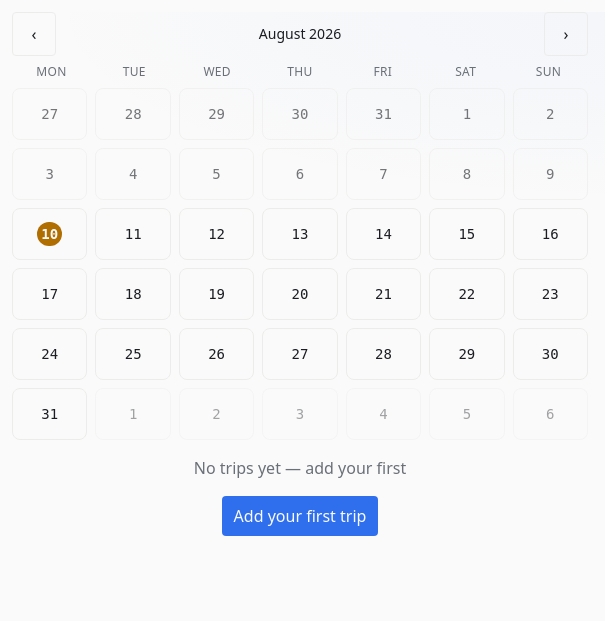
Test case: CalendarHome › shows an empty state with an add-trip action that selects today and shows the inline add form
This screenshot has width=605, height=621.
Check: the text "No trips yet — add your first" is shown, box [194,456,406,480]
Click the button "Add your first trip". click: (300, 516)
box: [222,496,378,536]
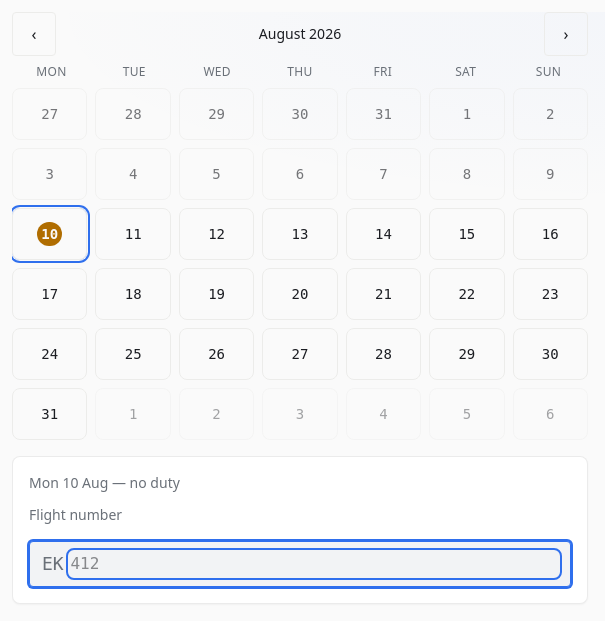
Check: the field with test id "flightno-input" is shown, box [70,552,558,576]
